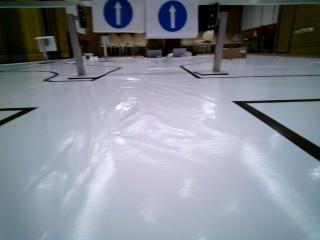straight: (145, 0, 196, 38), (96, 0, 145, 32)
